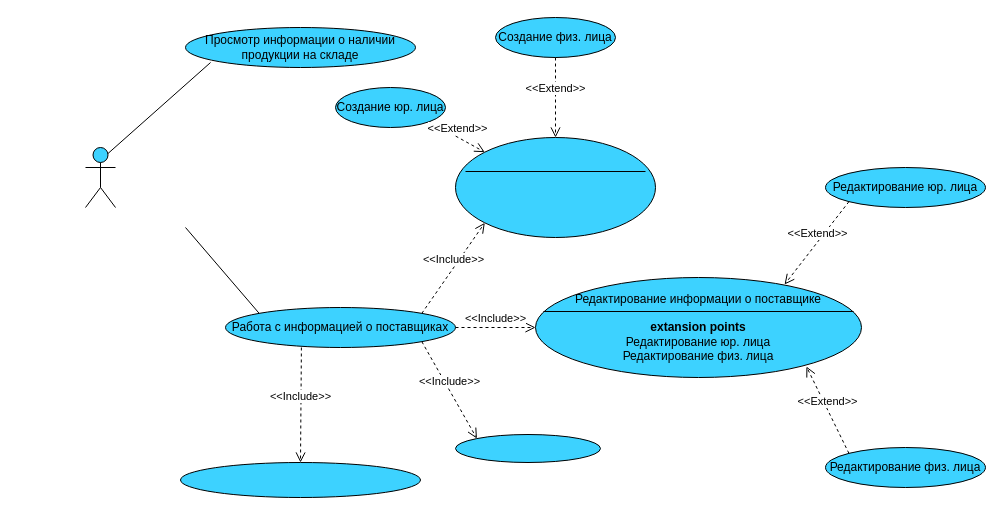
Image size: 1003x515. Some labels were removed from this diagram. The box of each missing label's shape, as (x1, y1, x2, y2) in pixels:
Просмотр информации о поставщиках: (180, 462, 420, 498)
Создание поставщика extansion points Создание юр. лица создание физ. лица: (454, 136, 656, 238)
Сотрудник отдела маркетинга: (84, 146, 116, 208)
Удаление поставщика: (454, 434, 600, 462)
